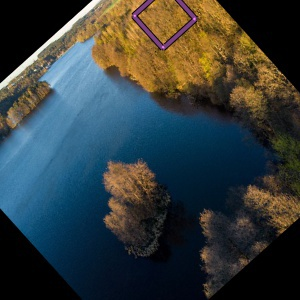square: (126, 1, 199, 52)
